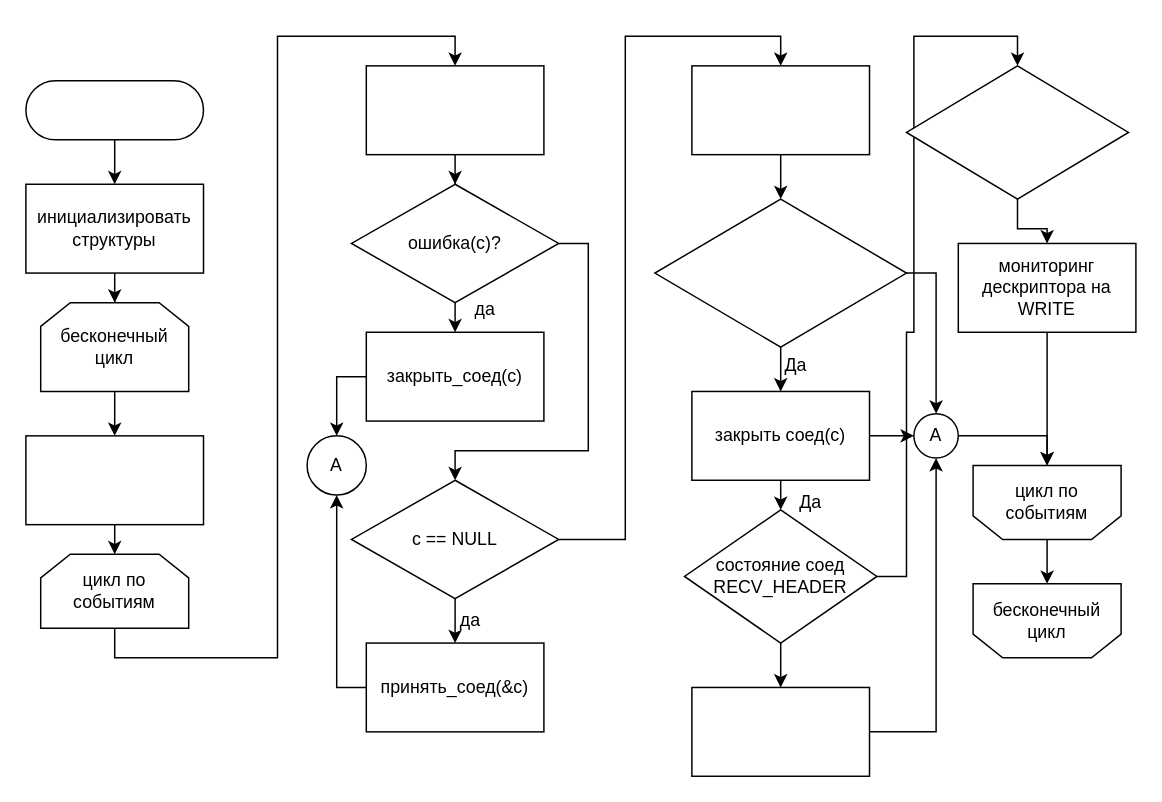
The diagram is 1162 pixels wide and 802 high, and some of its shapes have lost their labels. The shapes that lost their labels are listed below. From the top down, each one's box as (x1, y1, x2, y2) in pixels, then its label:
(24, 79, 204, 140): Начало
(365, 64, 544, 155): с := получить_данные события()
(690, 64, 870, 155): обработать соединение
(905, 64, 1128, 199): состояние соед SEND_BODY/HEADER
(653, 198, 906, 347): файловый дескриптор соед. NULL?
(24, 434, 204, 525): ожидание nslots событий из очереди (epoll/pselect)
(690, 686, 870, 776): мониторинг дескриптора на READ
